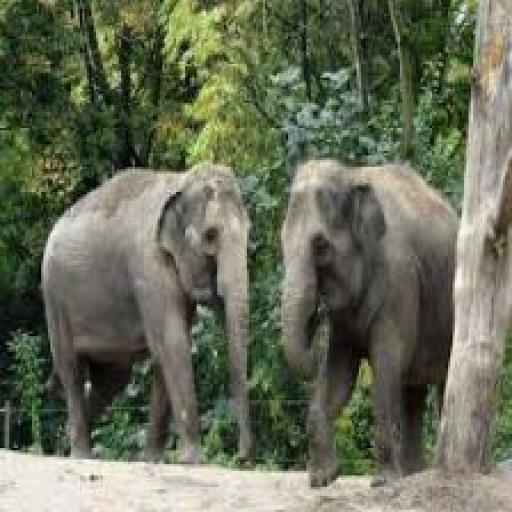Elephant: (41, 167, 256, 476), (279, 153, 471, 488)
